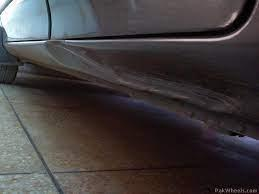RunningBoard-Dent: (134, 69, 258, 127), (36, 42, 160, 87)
